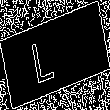L_N: (41, 26, 69, 84)
